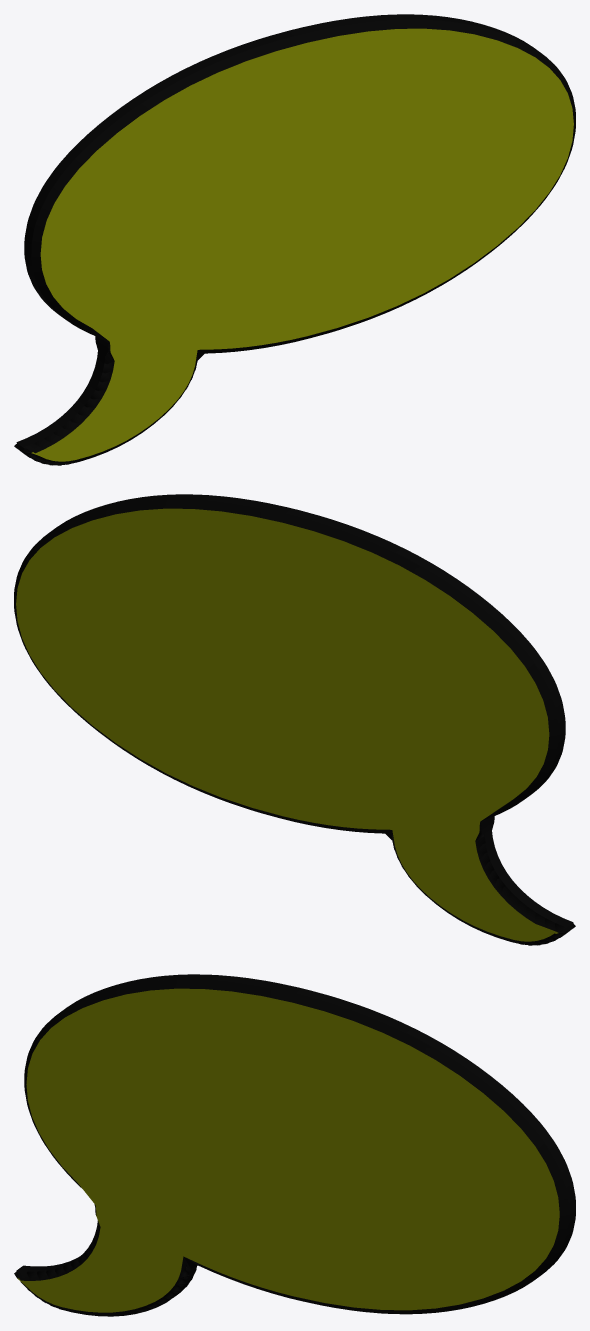
The model's file is Speech Bubble.FBX.
The picture shows the model from 3 angles, top to bottom: view 1: azimuth 30°, elevation 25°; view 2: azimuth 150°, elevation 25°; view 3: azimuth 330°, elevation 25°; orthographic projection.
Visible parts, largest first — view 1: Floating Speech Text; view 2: Floating Speech Text; view 3: Floating Speech Text.
Boxes of the visible parts, box(x1,y1,x2,y2) form: Floating Speech Text: box(14, 14, 575, 465); Floating Speech Text: box(14, 494, 575, 945); Floating Speech Text: box(14, 974, 575, 1316).
Bounding box in the file's own units: 227 × 146 × 10.
